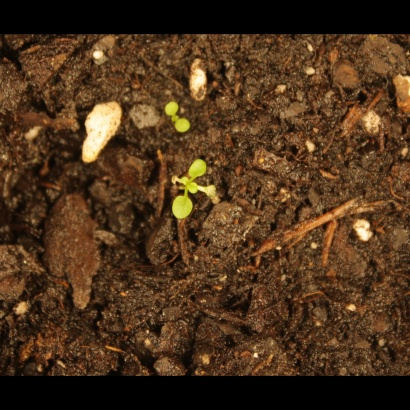leaf: (169, 194, 196, 222), (185, 156, 208, 181), (159, 95, 182, 118), (174, 117, 197, 140)
